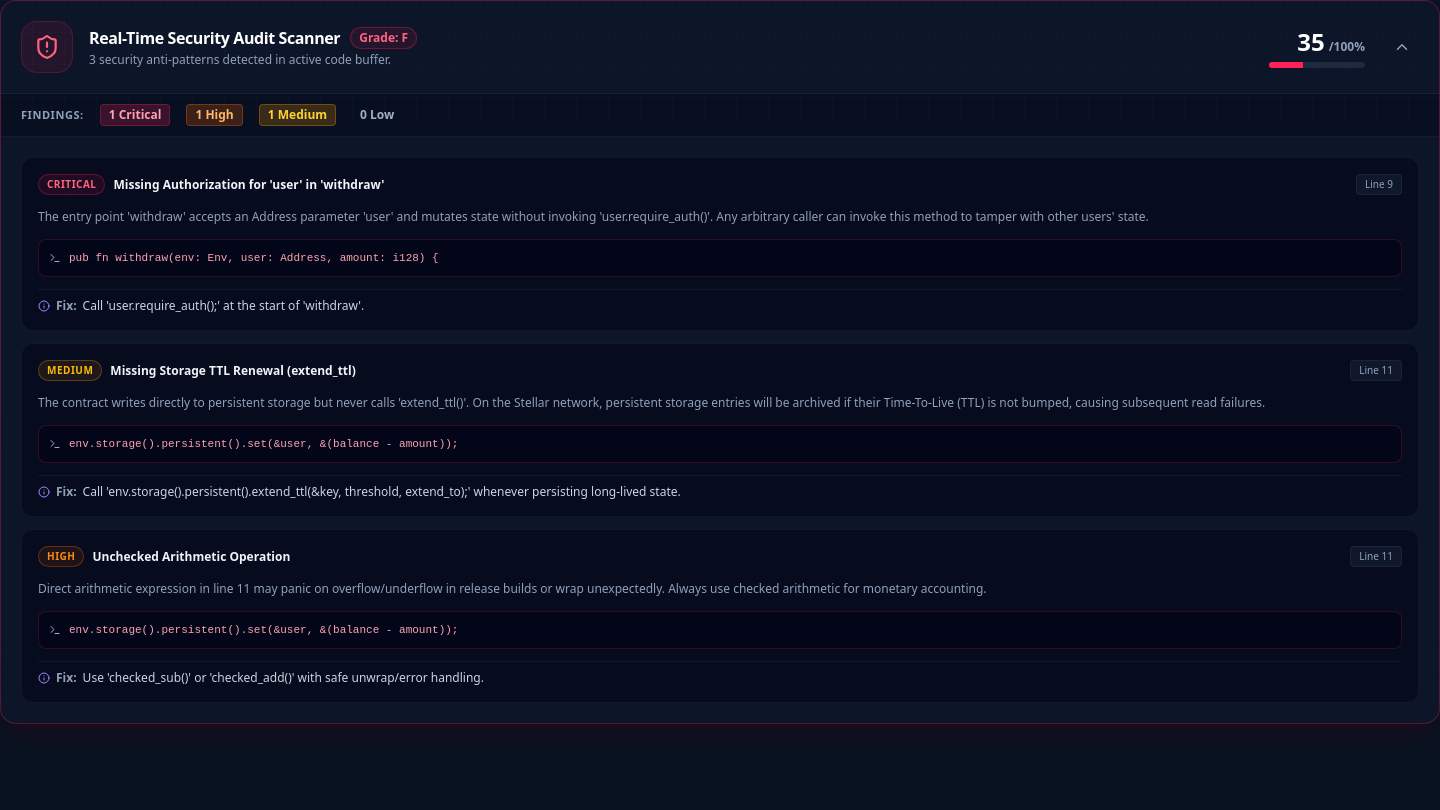
SecurityAuditBanner Component › allows collapsing and expanding the vulnerability details
This screenshot has width=1440, height=810.
Expected: the element with test id "vulnerability-card-UnverifiedAddressAuthorization" is shown, [21,157,1419,331]
What coordinates should you click on to do the following:
click the button with test id "toggle-audit-details"
I would click on:
 (1402, 47)
Its box is [1385,30,1419,64].
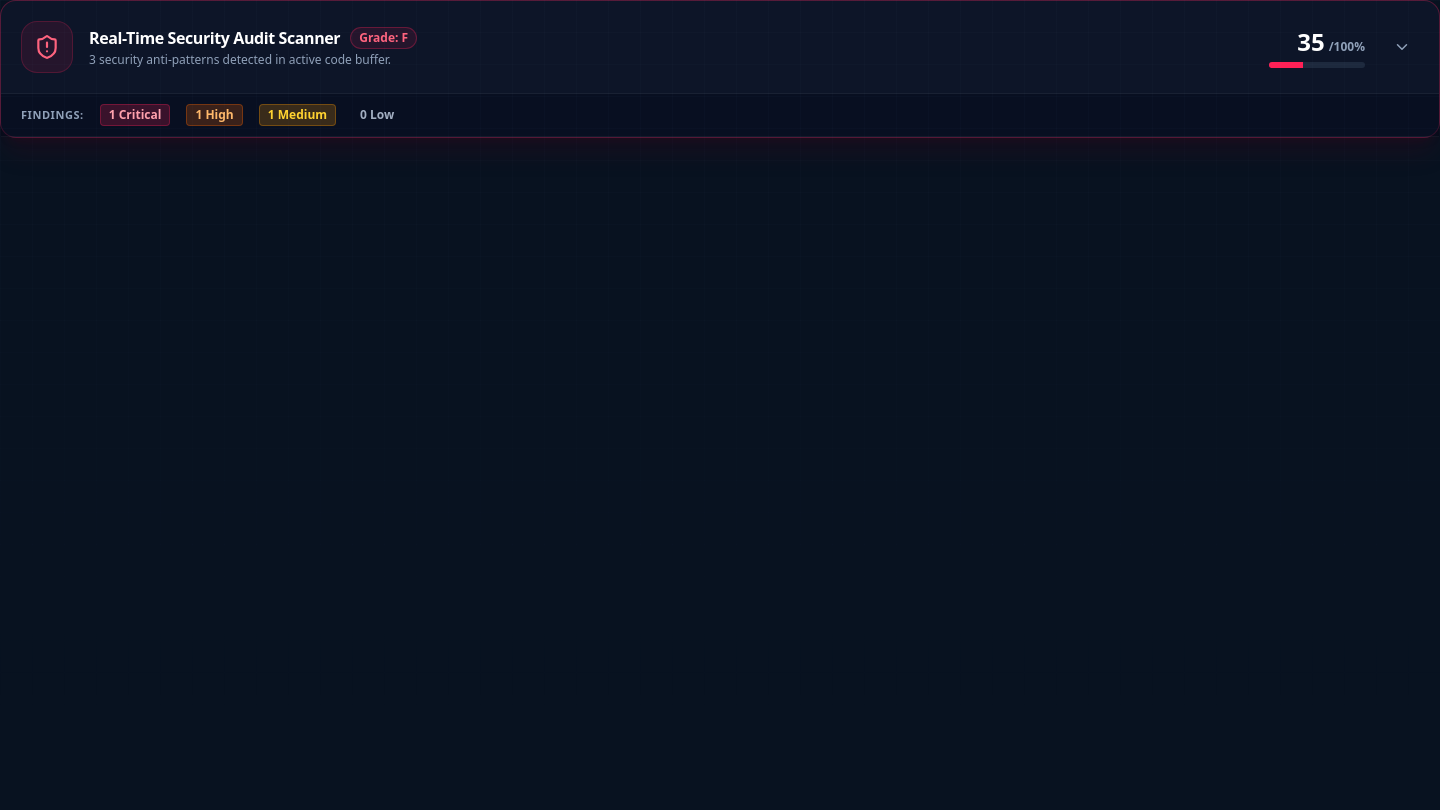
Now the element with test id "vulnerability-card-UnverifiedAddressAuthorization" is gone
What coordinates should you click on to do the following:
click the button with test id "toggle-audit-details"
I would click on:
 (1402, 47)
Its box is [1385,30,1419,64].
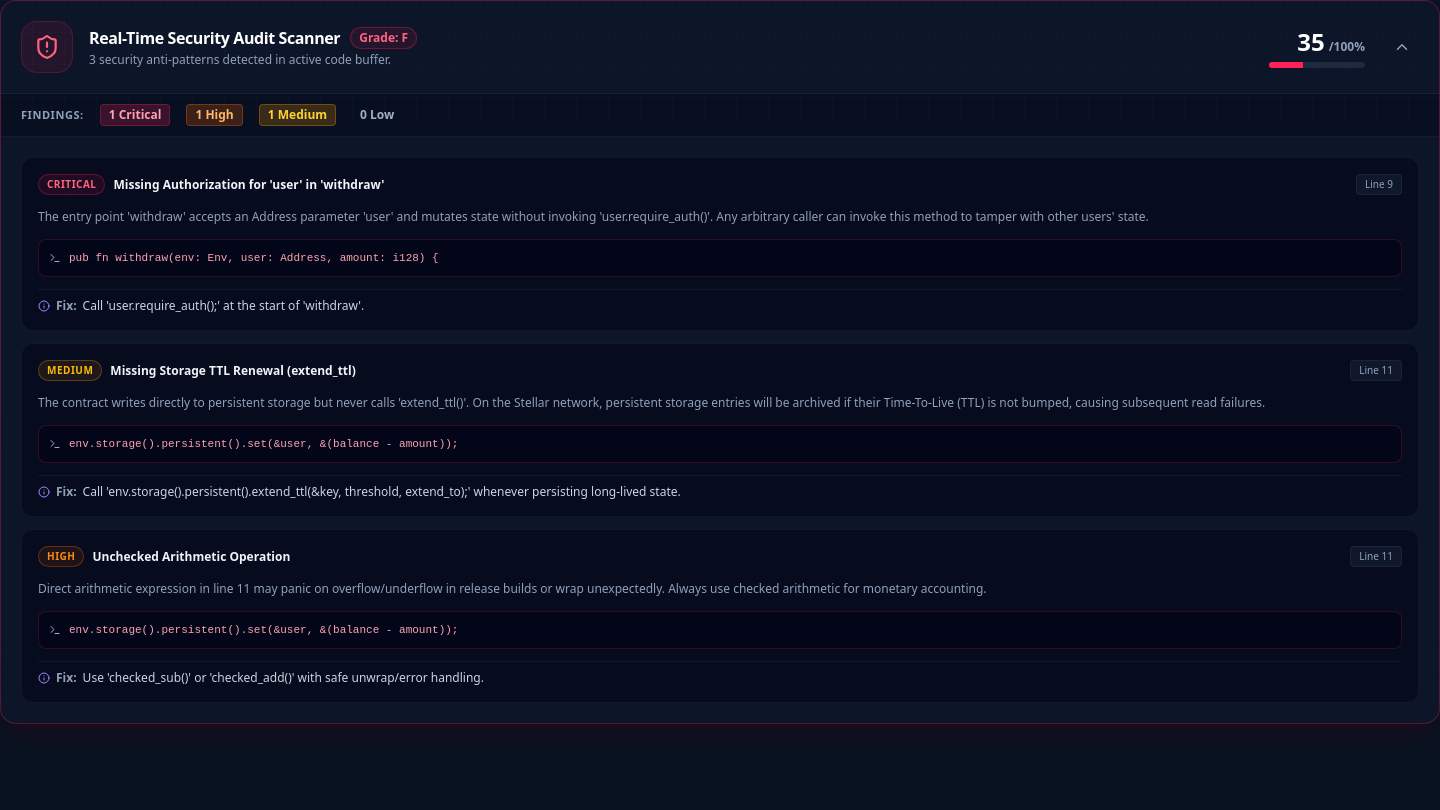
Now the element with test id "vulnerability-card-UnverifiedAddressAuthorization" is shown, box [21,157,1419,331]
